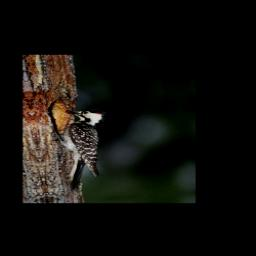Woodpecker: (47, 106, 123, 192)
